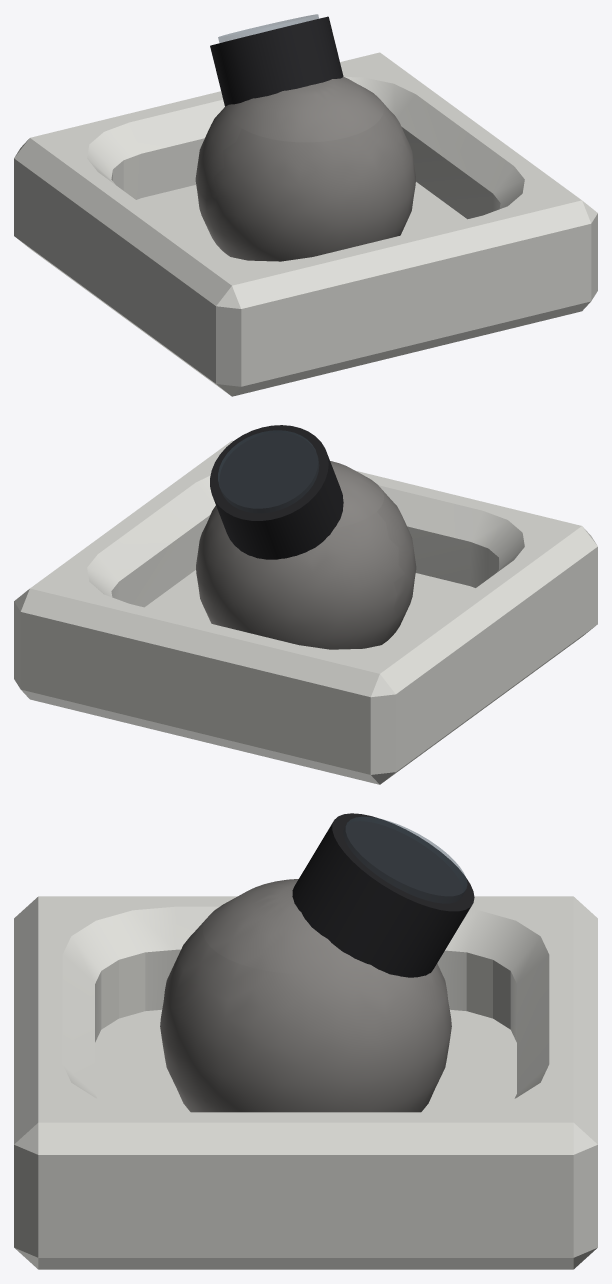
Rendered from ax_power_17_optical_terminal.glb.
3 renders of one model, top to bottom at view 1: azimuth 30°, elevation 25°; view 2: azimuth 150°, elevation 25°; view 3: azimuth 270°, elevation 25°, orthographic. The views are drawn at different scales.
Visible parts, largest first — view 1: terminal_pocket, gimbal_ball, telescope, aperture_glass; view 2: terminal_pocket, gimbal_ball, telescope, aperture_glass; view 3: terminal_pocket, gimbal_ball, telescope, aperture_glass.
Boxes of the visible parts, x1=… form: terminal_pocket: x1=14, y1=52, x2=597, y2=396; gimbal_ball: x1=195, y1=76, x2=415, y2=261; telescope: x1=210, y1=16, x2=343, y2=106; aperture_glass: x1=218, y1=14, x2=318, y2=42; terminal_pocket: x1=14, y1=440, x2=597, y2=784; gimbal_ball: x1=196, y1=461, x2=416, y2=649; telescope: x1=210, y1=425, x2=343, y2=559; aperture_glass: x1=218, y1=430, x2=318, y2=512; terminal_pocket: x1=14, y1=896, x2=597, y2=1269; gimbal_ball: x1=160, y1=879, x2=451, y2=1112; telescope: x1=292, y1=813, x2=474, y2=977; aperture_glass: x1=343, y1=816, x2=467, y2=903.
Size of the model in its own units: 0.36 by 0.2239 by 0.36.
Materials: 4 (1 with a texture image).
